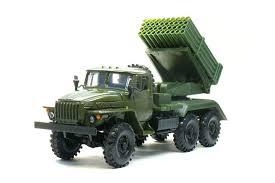MIL_SAM_TEL: (45, 14, 225, 166)
